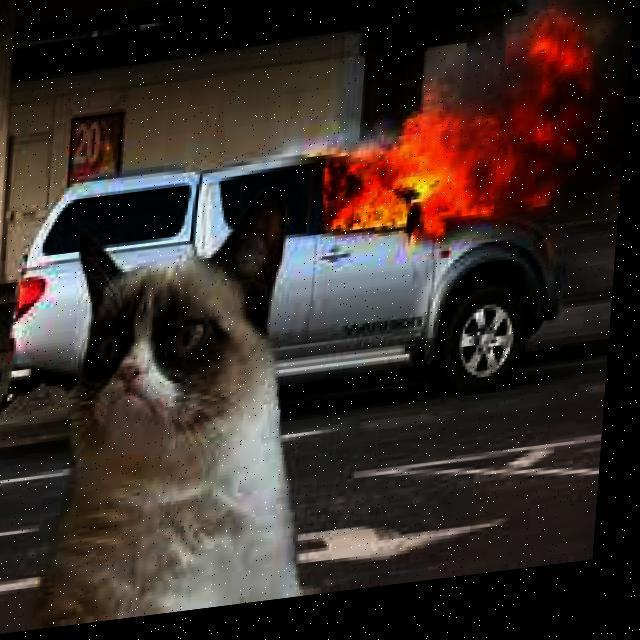Fire: (326, 12, 604, 266)
